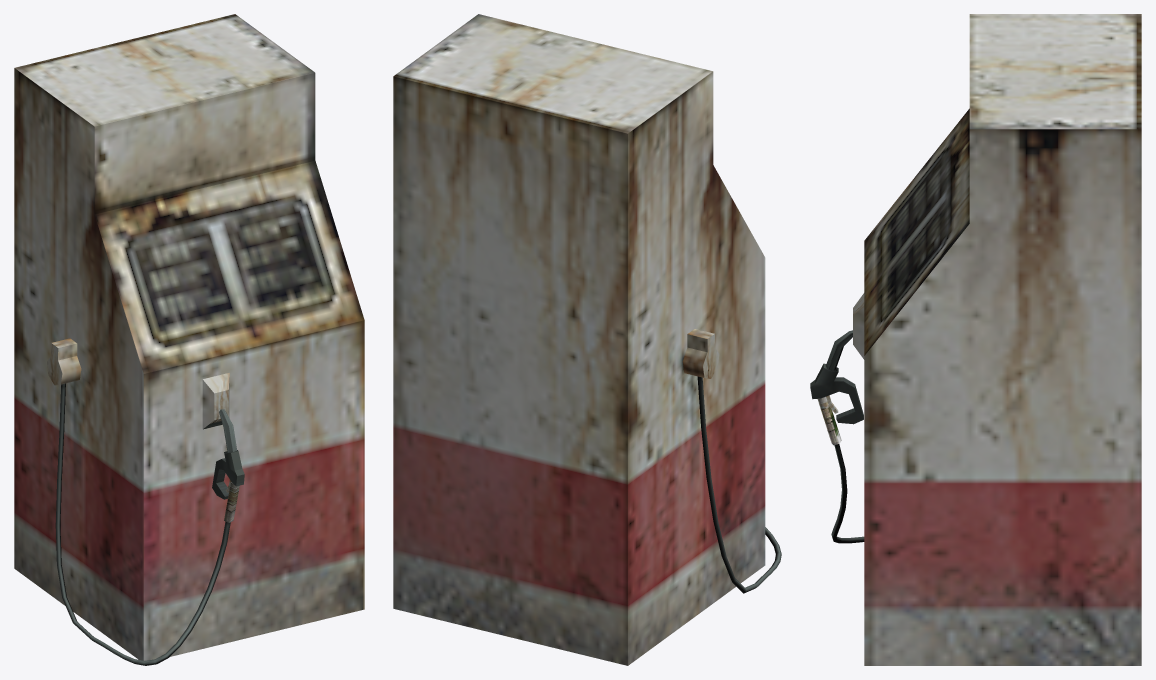
The model's file is RefuelingtableC.FBX.
3 renders of one model, left to right at view 1: azimuth 30°, elevation 25°; view 2: azimuth 150°, elevation 25°; view 3: azimuth 270°, elevation 25°, orthographic. The views are drawn at different scales.
Visible parts, largest first — view 1: RefuelingtableC; view 2: RefuelingtableC; view 3: RefuelingtableC.
Part boxes in pixels (x1,y1,x2,y2): RefuelingtableC: [14, 14, 364, 665]; RefuelingtableC: [393, 14, 781, 665]; RefuelingtableC: [810, 14, 1141, 665].
Bounding box in the file's own units: 81.32 × 157 × 87.89.
